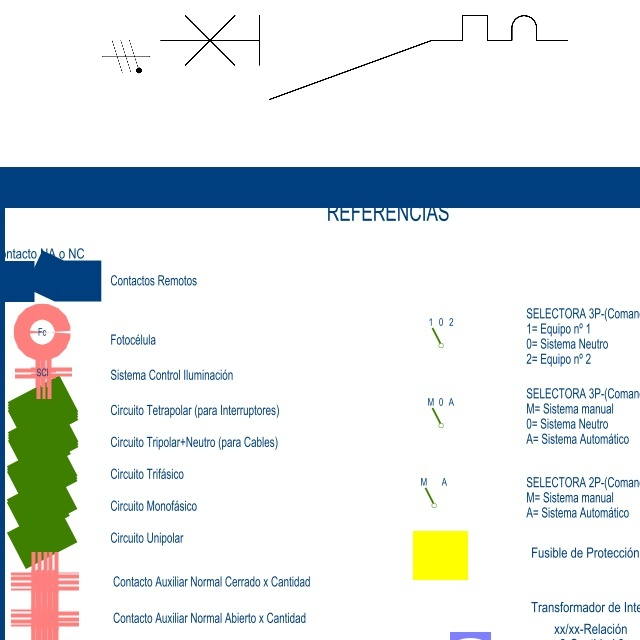interruptor_termomagnetico: (150, 5, 578, 109)
